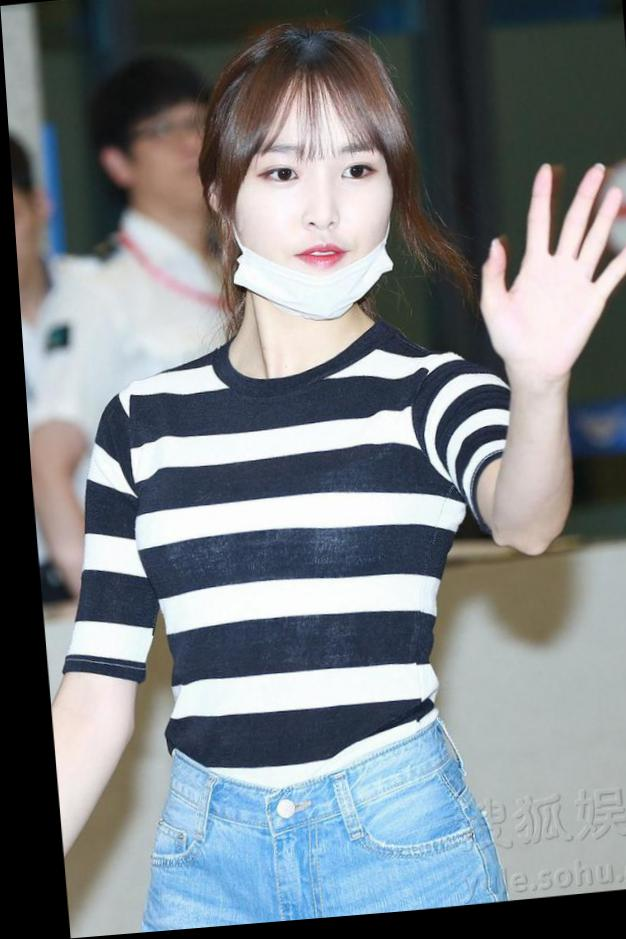NONE: (127, 101, 222, 215)
WRONG: (225, 130, 416, 324)
